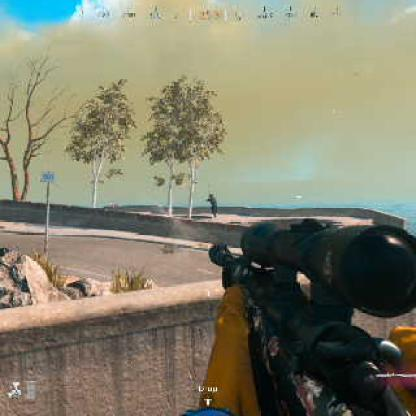enemy: (206, 193, 218, 217)
